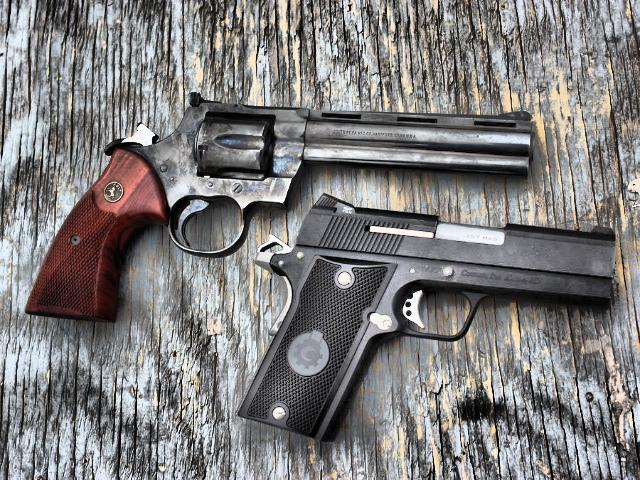pistol: (20, 91, 542, 321), (222, 194, 618, 433)
